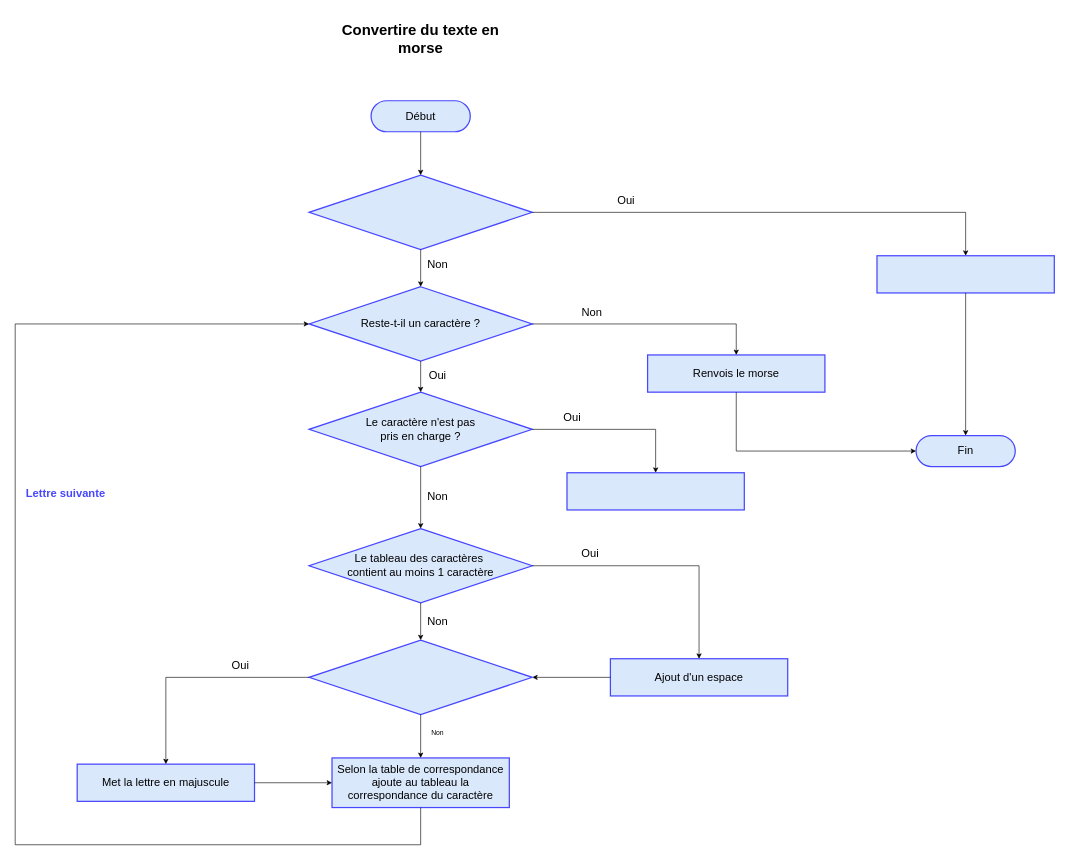
This 1066x861 diagram has some shape labels left out. The box of each missing label's shape, as (x1, y1, x2, y2) in pixels:
L'entrée de l'utilisateur est vide ?: (308, 174, 533, 250)
Le caractère est une lettre ?: (308, 639, 533, 715)
Message d'erreur: (876, 255, 1055, 293)
Signalement du caractère non pris en charge: (566, 472, 745, 510)
